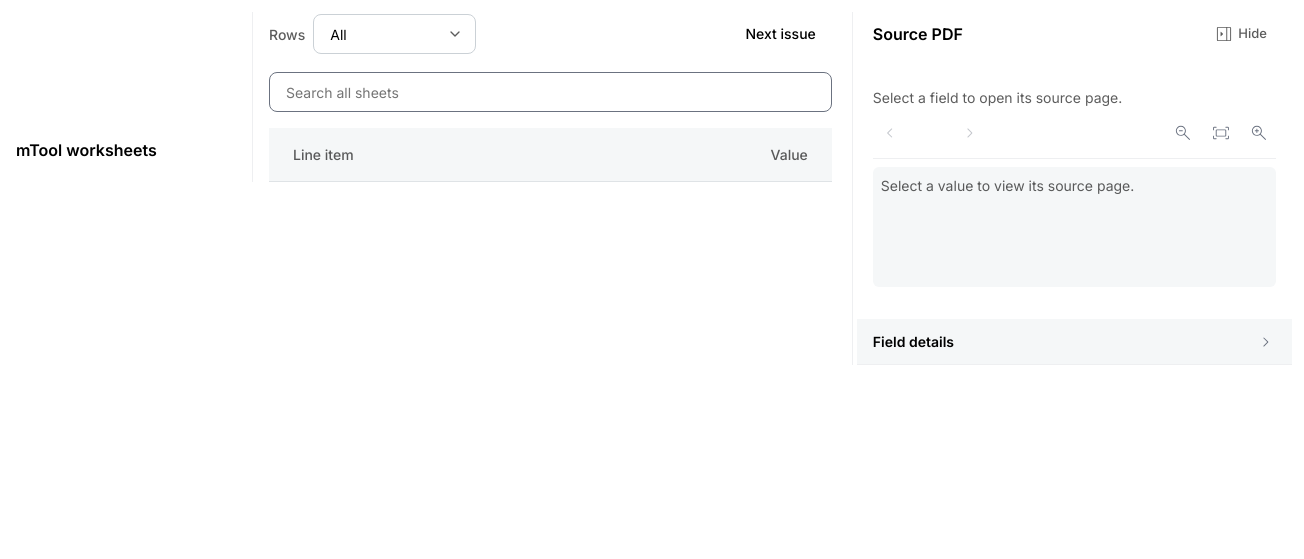
ConceptsPage › field details are collapsed by default and open on demand
Expected: the text "Template" is not shown
Expected: the text "Cell" is not shown
# Opening the drawer reveals it.
Click the button with test id "panel-details-toggle" at (913, 342), box x1=857 y1=319 x2=1292 y2=365
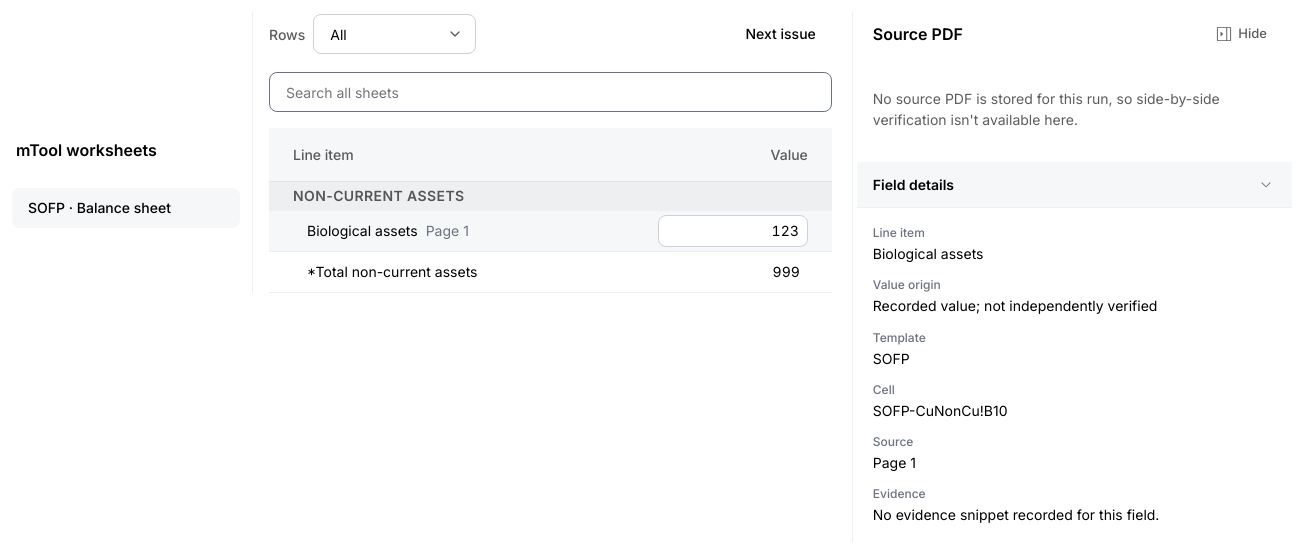
Now the text "Template" is shown, box x1=873 y1=330 x2=926 y2=345
Now the text "Cell" is shown, box x1=873 y1=382 x2=895 y2=397
